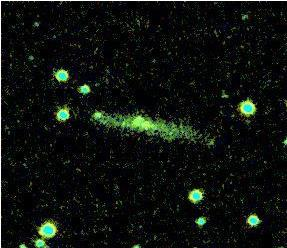star: (107, 108, 137, 138)
